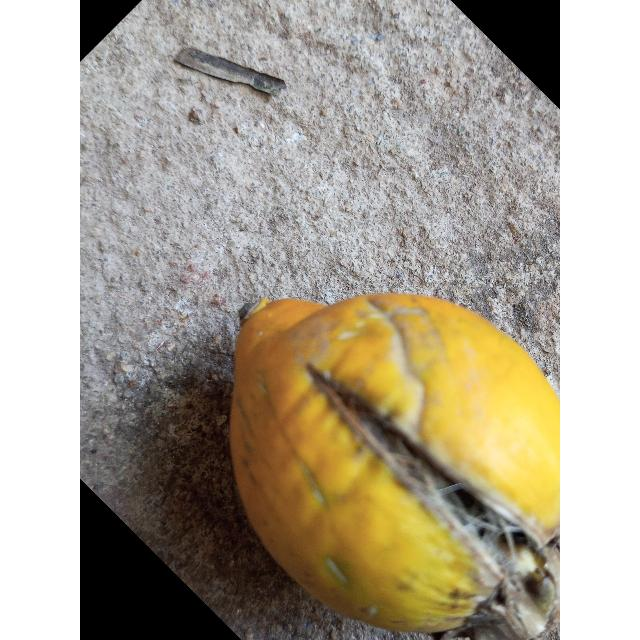damaged: (230, 294, 560, 640)
